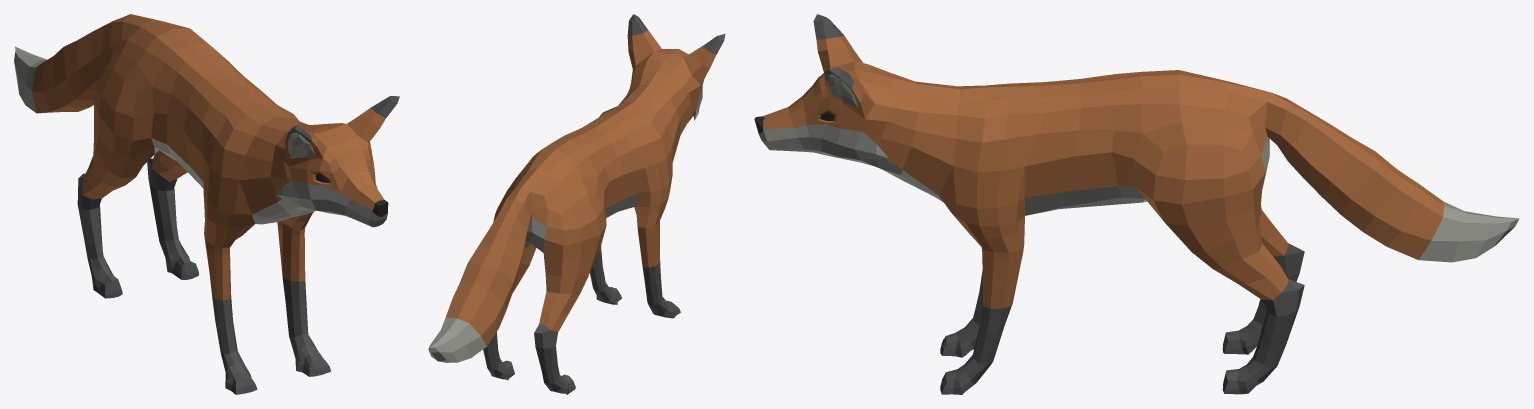
File: Fox.glb
3 renders of one model, left to right at view 1: azimuth 30°, elevation 25°; view 2: azimuth 150°, elevation 25°; view 3: azimuth 270°, elevation 25°, orthographic. The views are drawn at different scales.
Parts seen in each view (by area): view 1: Fox_Cube; view 2: Fox_Cube; view 3: Fox_Cube.
Boxes of the visible parts, bbox=[...] form: Fox_Cube: bbox=[14, 14, 399, 394]; Fox_Cube: bbox=[428, 14, 725, 394]; Fox_Cube: bbox=[754, 14, 1519, 394].
Size of the model in its own units: 1.12 by 2.69 by 5.59.
